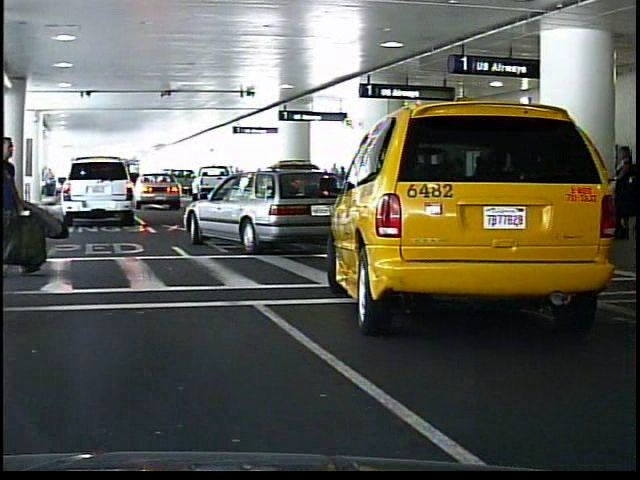person: (610, 146, 635, 255)
